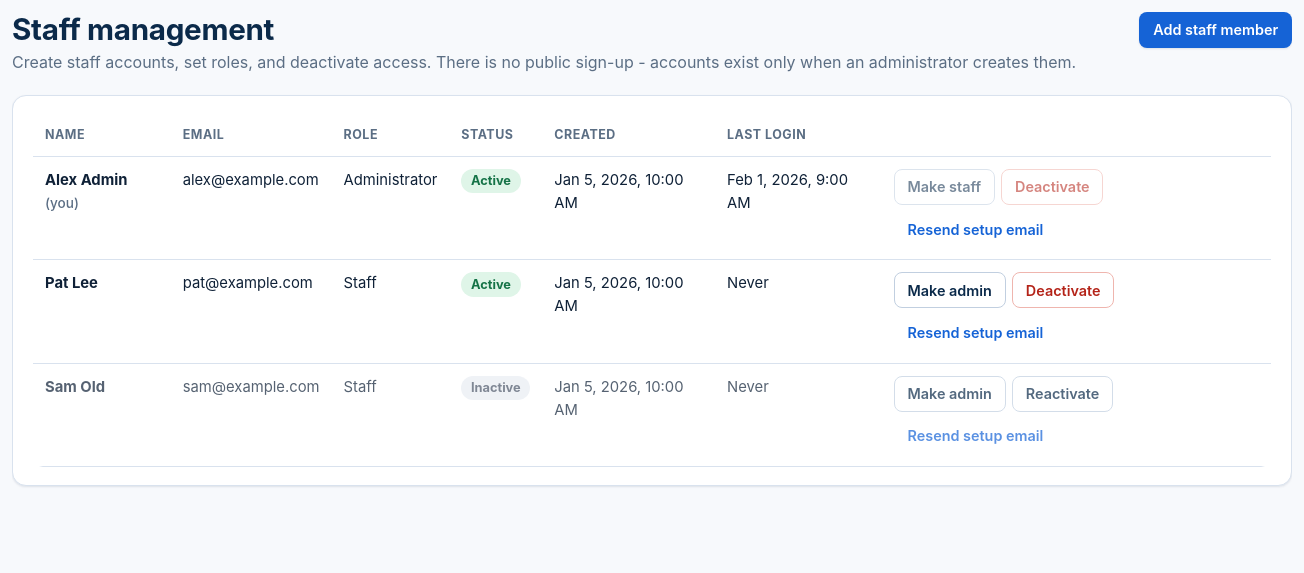
Test case: staff management (admin only page) › surfaces a server refusal such as "last administrator" without crashing
Expected: the text "Pat Lee" is shown, top-left (45, 274), bottom-right (98, 292)
Click the button "Make admin" in the row of "Pat Lee". click: (950, 290)
box: top-left (894, 272), bottom-right (1006, 308)
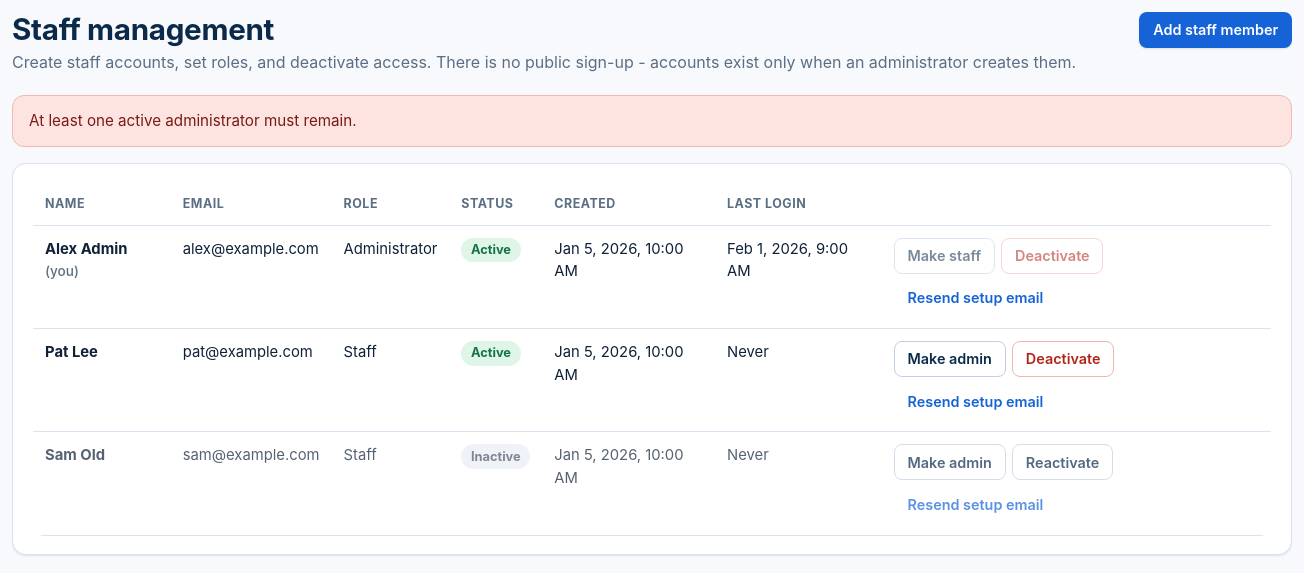
Result: the text "At least one active administrator must remain." is shown at top-left (29, 109), bottom-right (357, 133)
